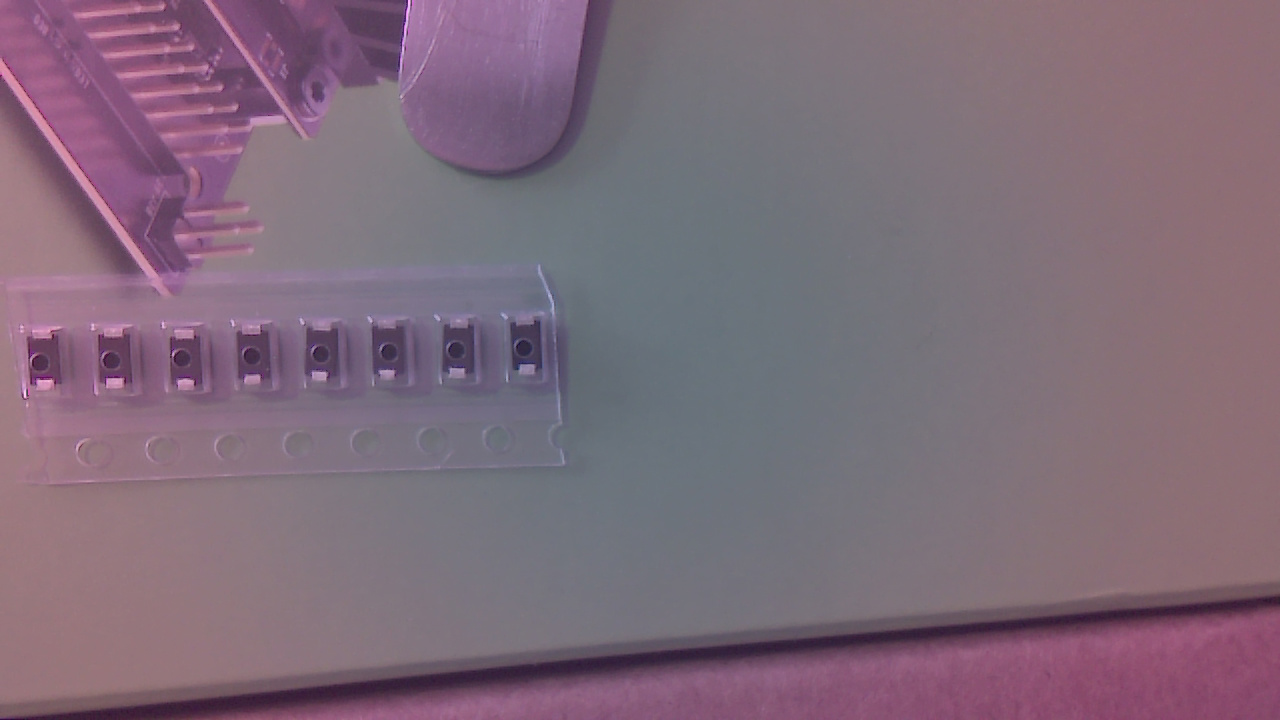Diode: (241, 328, 279, 397), (30, 331, 68, 397), (310, 325, 348, 390), (104, 327, 140, 394), (375, 324, 411, 389), (445, 323, 481, 387), (172, 333, 207, 398), (516, 317, 550, 380)
